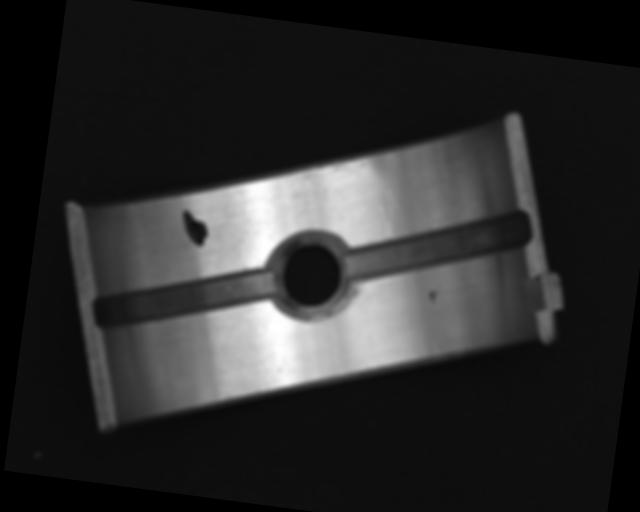blot: (177, 209, 211, 248)
bruise: (426, 290, 438, 304)
gap: (344, 189, 531, 303), (91, 252, 275, 351)
hole: (271, 230, 354, 325)
nick: (372, 185, 401, 237)
